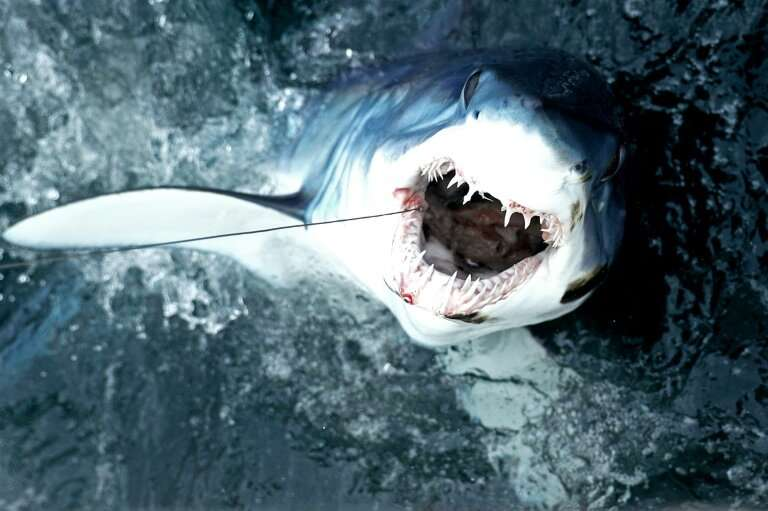shark: (1, 39, 639, 354)
